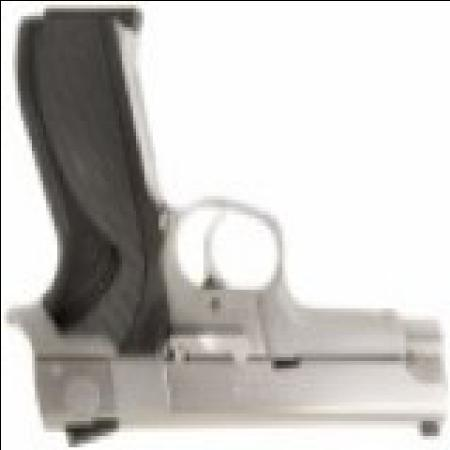Pistol: (20, 8, 442, 446)
